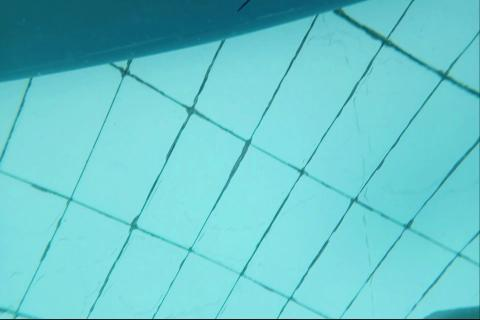keretakan: (234, 0, 251, 15)
